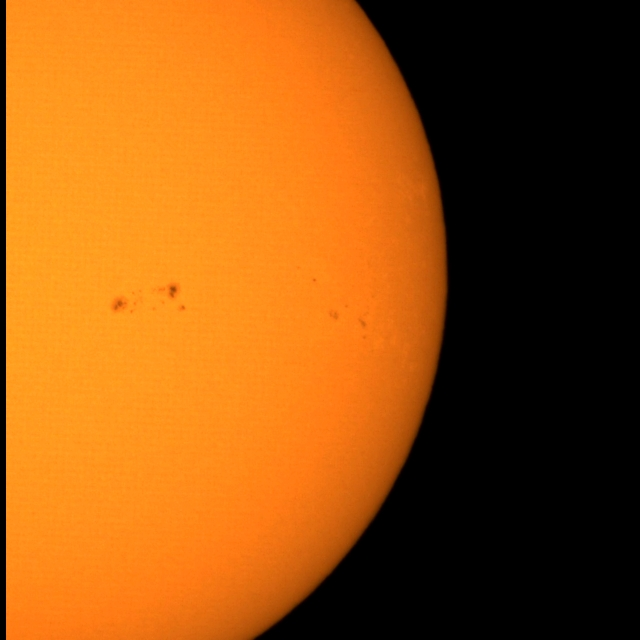sunspot: (153, 282, 185, 314), (111, 288, 145, 314), (326, 303, 354, 324), (358, 309, 370, 333), (328, 308, 340, 322), (178, 304, 187, 313), (311, 276, 318, 283)
